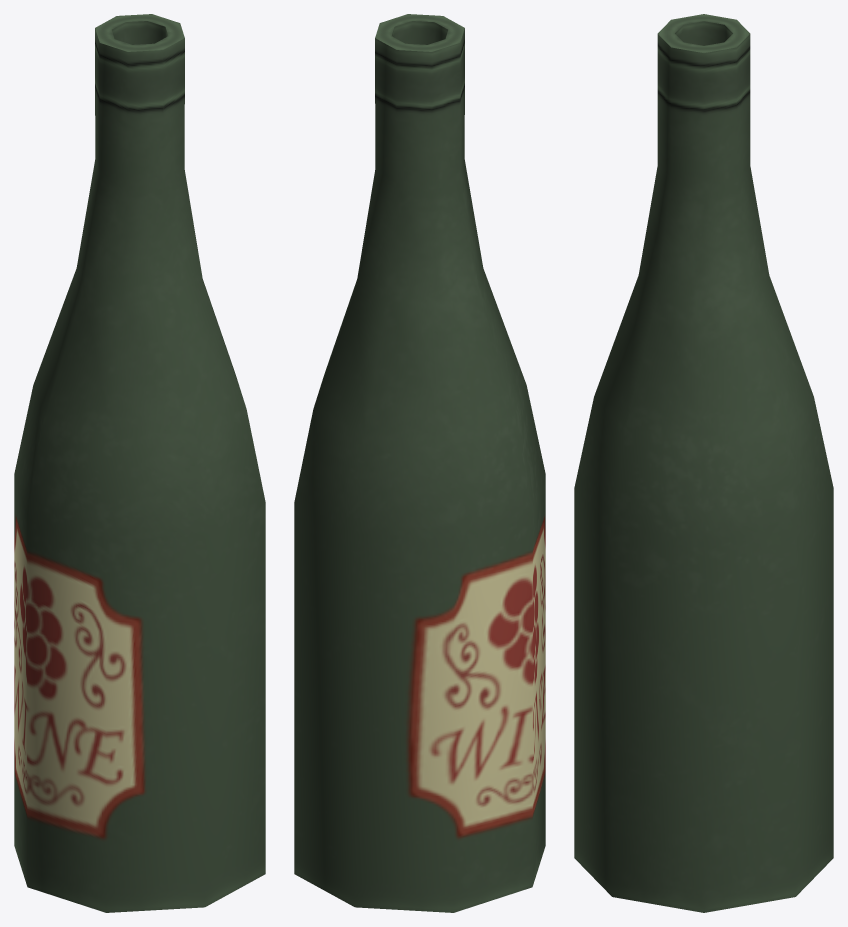
The model's file is LOD1_smallBottle_wLabel.fbx.
3 views of the same model, side by side, from view 1: azimuth 30°, elevation 25°; view 2: azimuth 150°, elevation 25°; view 3: azimuth 270°, elevation 25° (orthographic).
Visible parts, largest first — view 1: LOD1_smallBottle_wLabel; view 2: LOD1_smallBottle_wLabel; view 3: LOD1_smallBottle_wLabel.
Part boxes in pixels (<box>): LOD1_smallBottle_wLabel: <box>14,14,265,912</box>; LOD1_smallBottle_wLabel: <box>294,14,545,912</box>; LOD1_smallBottle_wLabel: <box>574,14,833,912</box>.
Bounding box in the file's own units: 0.0929 × 0.3261 × 0.0929.
